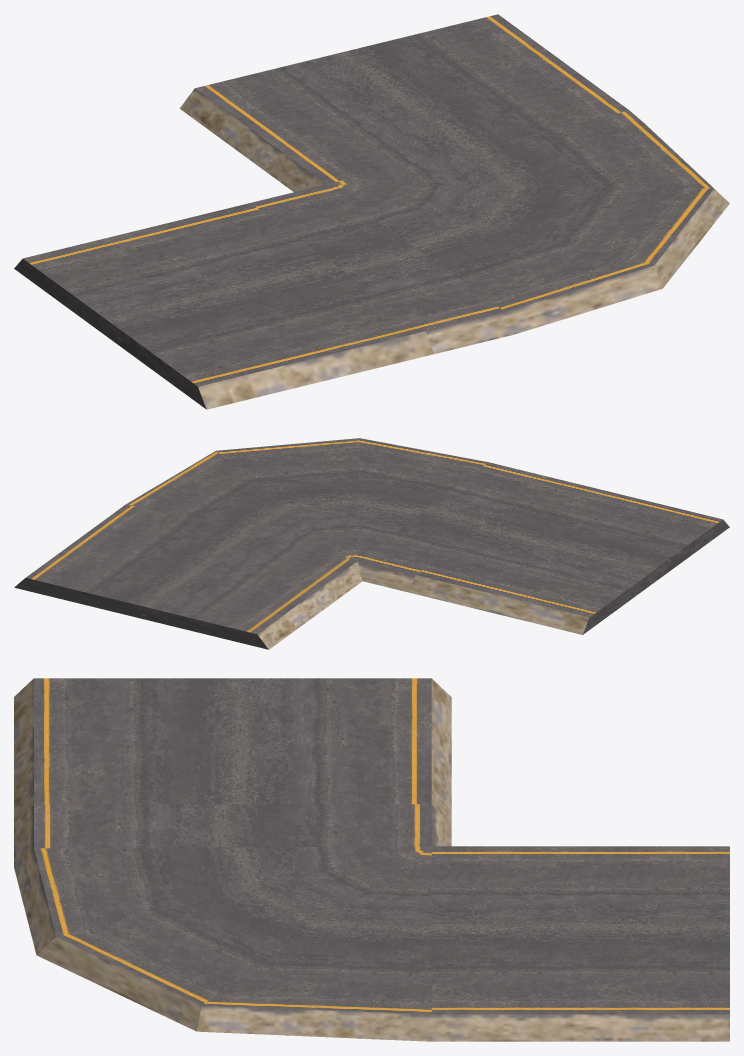
File: road_1_left.fbx
The picture shows the model from 3 angles, top to bottom: view 1: azimuth 30°, elevation 25°; view 2: azimuth 150°, elevation 25°; view 3: azimuth 270°, elevation 25°; orthographic projection. The views are drawn at different scales.
Visible parts, largest first — view 1: Plane; view 2: Plane; view 3: Plane.
Part boxes in pixels (x1,y1,x2,y2): Plane: (14,14,729,409); Plane: (14,438,729,649); Plane: (14,678,729,1041).
Bounding box in the file's own units: 820 × 20.93 × 720.
